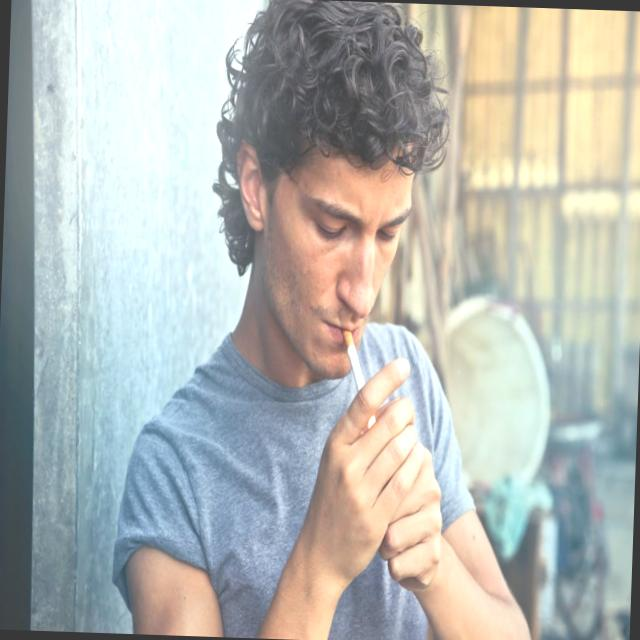cigarette: (339, 327, 368, 396)
